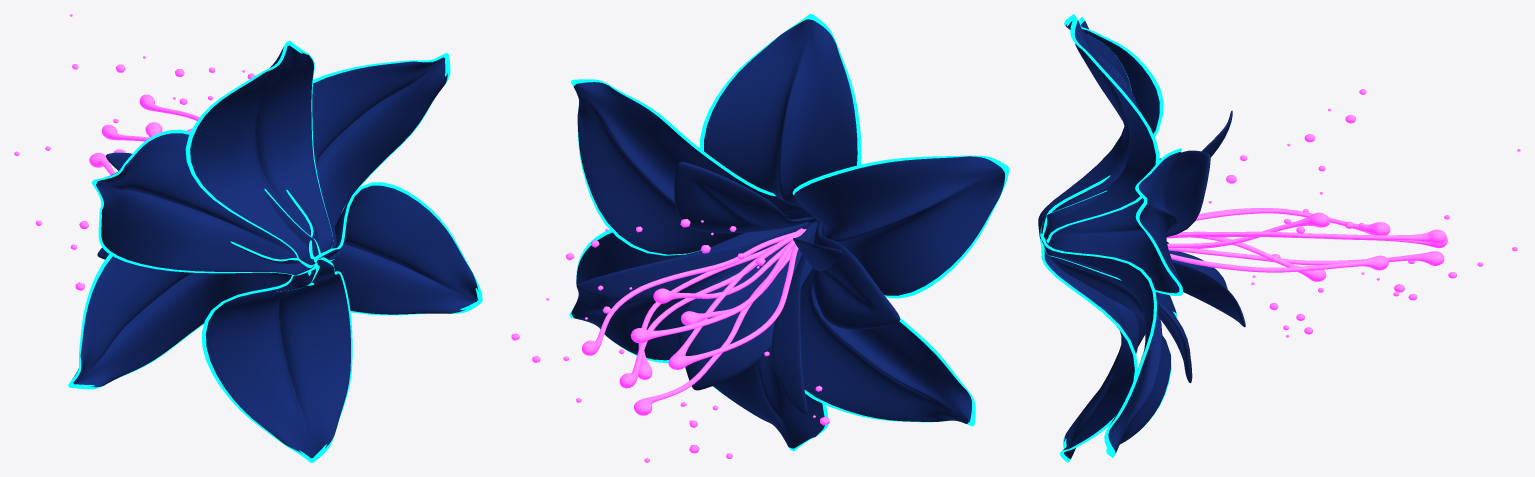
The model's file is flower.glb.
The picture shows the model from 3 angles, left to right: view 1: azimuth 30°, elevation 25°; view 2: azimuth 150°, elevation 25°; view 3: azimuth 270°, elevation 25°; orthographic projection. The views are drawn at different scales.
Visible parts, largest first — view 1: Sphere.003; view 2: Sphere.003; view 3: Sphere.003.
Boxes of the visible parts, x1=… form: Sphere.003: x1=14, y1=14, x2=482, y2=462; Sphere.003: x1=511, y1=14, x2=1009, y2=462; Sphere.003: x1=1038, y1=14, x2=1520, y2=462.
Bounding box in the file's own units: 1 × 1 × 1.
